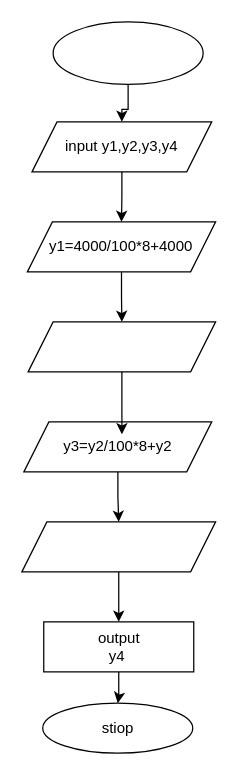
Image size: 238x775. Some labels were removed from this diagram. The centre of each missing label's shape, as x and y in pixels:
start: the point at 127,52
y2=y1/100*8+y1: the point at 121,346
y4=y3/100*8+y3;: the point at 118,546
